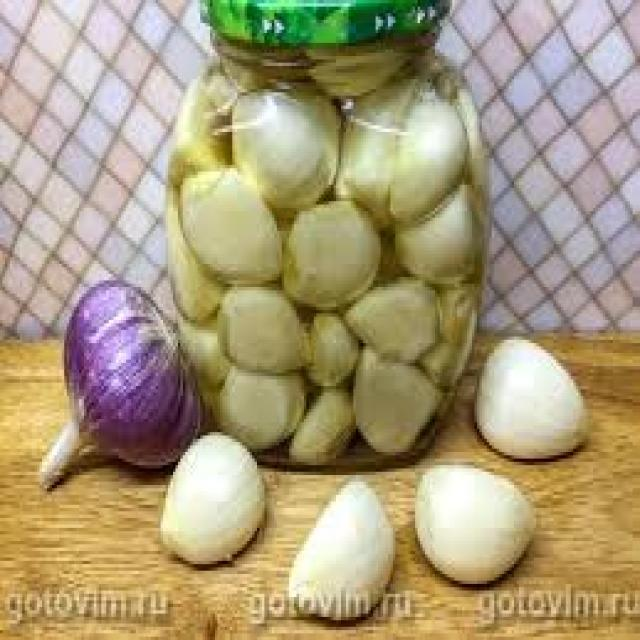Garlic: (159, 61, 497, 458), (32, 256, 200, 490), (280, 457, 404, 635), (472, 313, 604, 471), (406, 454, 539, 588), (162, 428, 272, 564)
